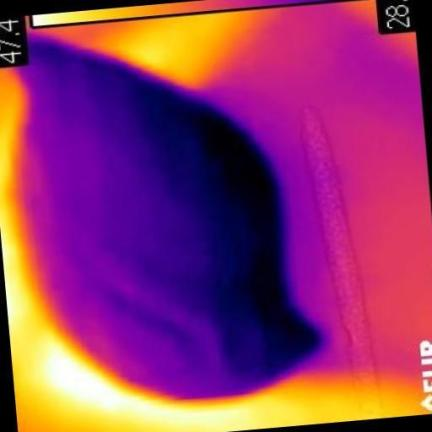mango: (19, 41, 318, 400)
